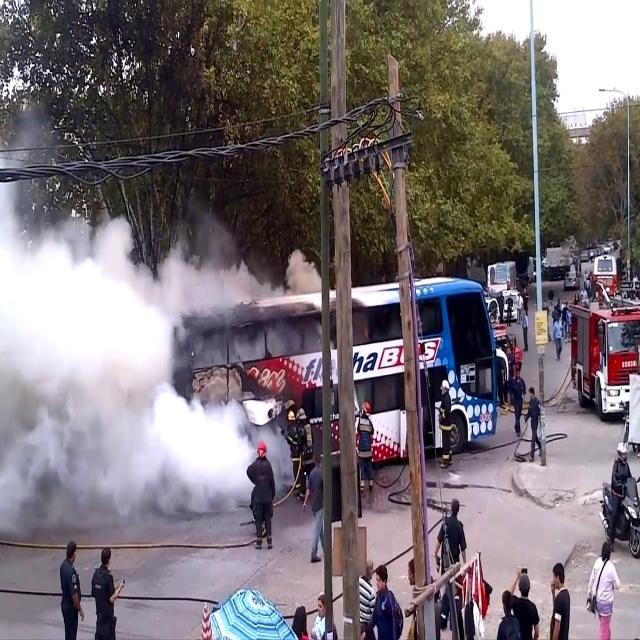Smoke: (1, 133, 256, 524)
